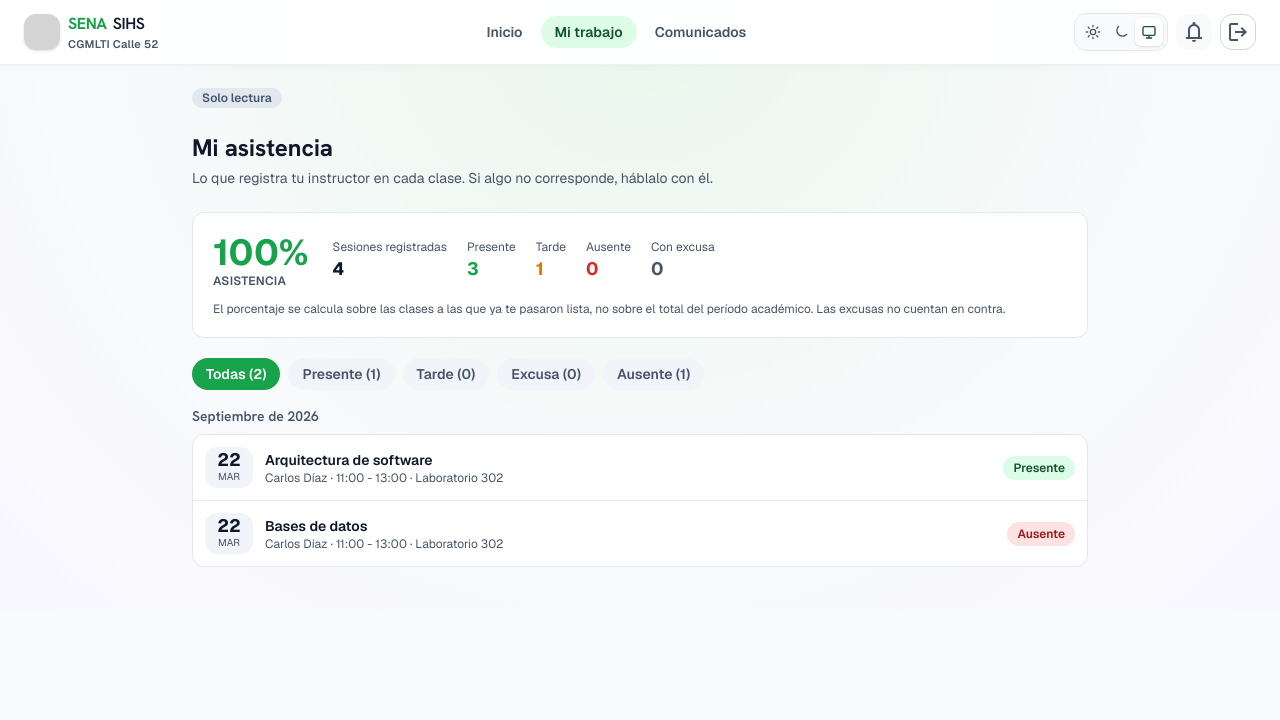
Test: MiAsistencia › filtra por estado sin volver a pedirle nada al backend
expect the text "Bases de datos" is shown: met, box 265,516 -> 367,534
Click the button "Ausente (1)": (654, 374) 603,358 -> 704,390
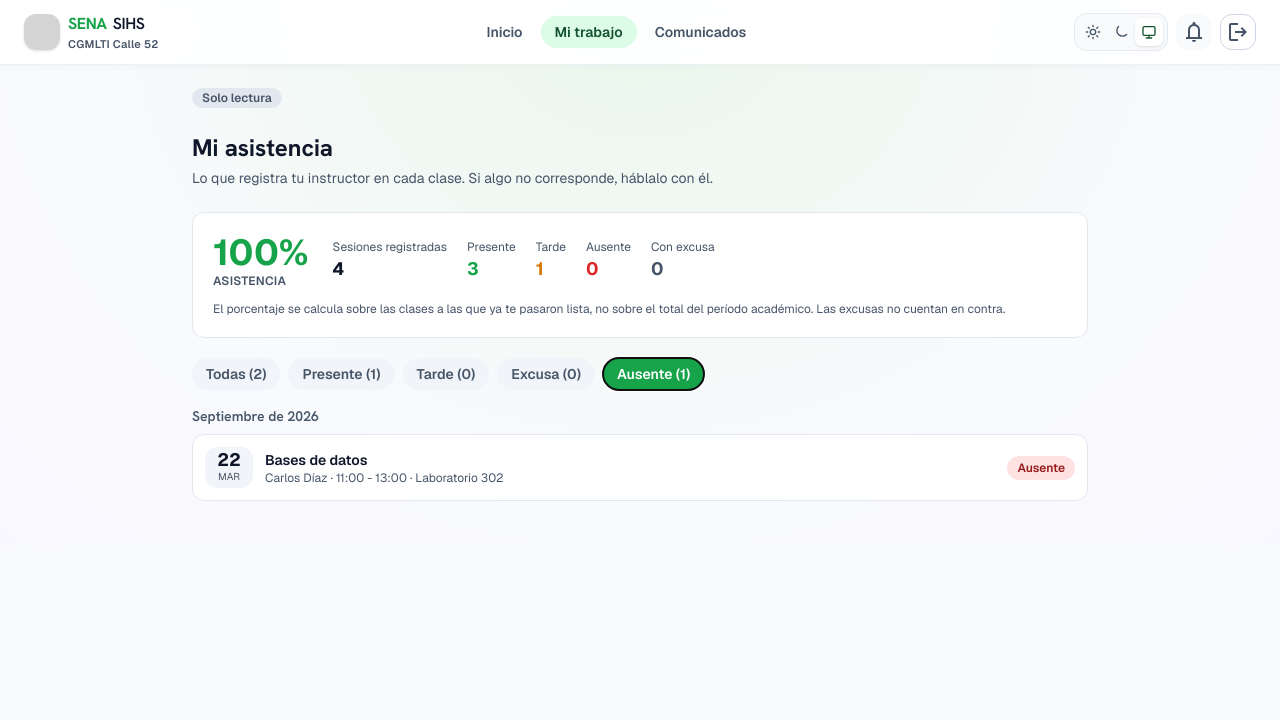
expect the text "Bases de datos" is shown: met, box 265,450 -> 367,468
expect the text "Arquitectura de software" is gone: met
